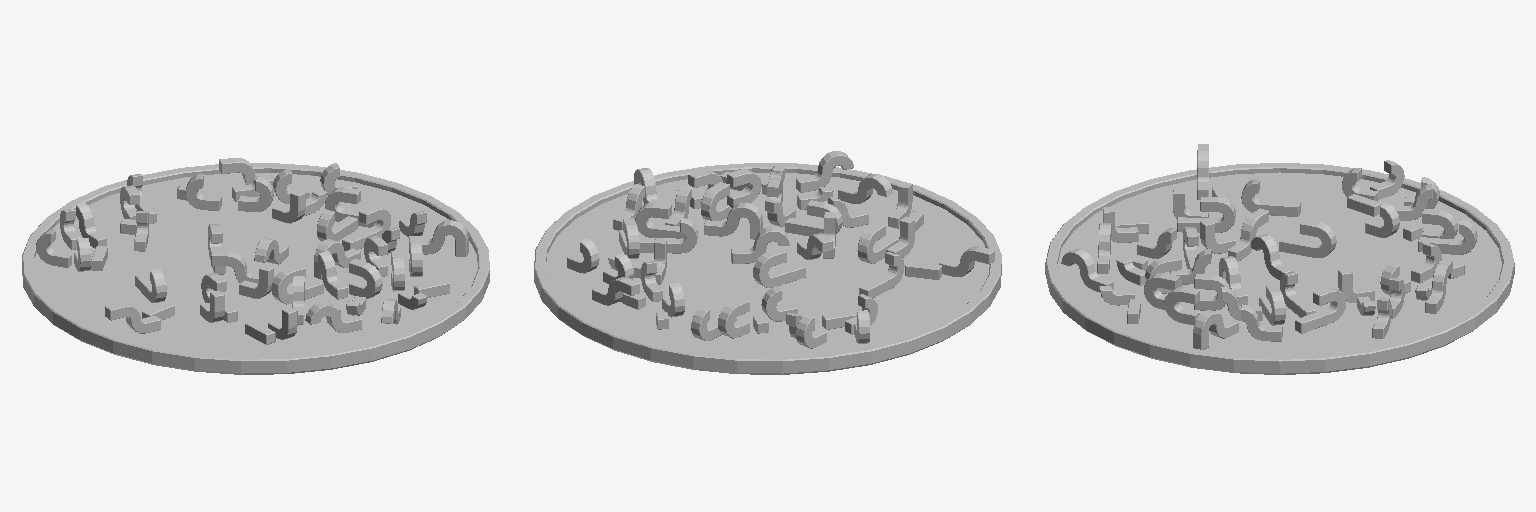
File: Worm Playground.obj
3 renders of one model, left to right at view 1: azimuth 30°, elevation 25°; view 2: azimuth 150°, elevation 25°; view 3: azimuth 270°, elevation 25°, orthographic.
Parts seen in each view (by area): view 1: Ground_Cylinder, Cube.059_Cube.016, Cube.052_Cube.011, Cube.035_Cube.016, Cube.016_Cube.006, Cube.010_Cube.004, Cube.017_Cube.005, Cube.054_Cube.016, Cube.031_Cube.014, Cube.030_Cube.011, Cube.055_Cube.014, Cube.024_Cube.005 (+20 smaller); view 2: Ground_Cylinder, Cube.040_Cube.016, Cube.030_Cube.011, Cube.059_Cube.016, Cube.053_Cube.006, Cube.047_Cube.016, Cube.020_Cube.006, Cube.035_Cube.016, Cube.016_Cube.006, Cube.041_Cube.004, Cube.055_Cube.014, Cube.023_Cube.004 (+22 smaller); view 3: Ground_Cylinder, Cube.040_Cube.016, Cube.054_Cube.016, Cube.052_Cube.011, Cube.047_Cube.016, Cube.055_Cube.014, Cube.050_Cube.004, Cube.056_Cube.014, Cube.053_Cube.006, Cube.024_Cube.005, Cube.029_Cube.004, Cube.018_Cube.005 (+22 smaller).
Part boxes in pixels (bbox=[...]): Ground_Cylinder: bbox=[22, 163, 489, 374]; Cube.059_Cube.016: bbox=[342, 206, 390, 250]; Cube.052_Cube.011: bbox=[409, 220, 468, 256]; Cube.035_Cube.016: bbox=[271, 264, 323, 304]; Cube.016_Cube.006: bbox=[305, 302, 361, 332]; Cube.010_Cube.004: bbox=[349, 259, 382, 298]; Cube.017_Cube.005: bbox=[105, 302, 160, 333]; Cube.054_Cube.016: bbox=[325, 187, 374, 227]; Cube.031_Cube.014: bbox=[317, 209, 357, 241]; Cube.030_Cube.011: bbox=[314, 239, 360, 279]; Cube.055_Cube.014: bbox=[135, 269, 166, 302]; Cube.024_Cube.005: bbox=[211, 251, 258, 283]; Ground_Cylinder: bbox=[534, 163, 1001, 374]; Cube.040_Cube.016: bbox=[753, 248, 805, 287]; Cube.030_Cube.011: bbox=[704, 202, 762, 239]; Cube.059_Cube.016: bbox=[635, 202, 684, 238]; Cube.053_Cube.006: bbox=[796, 151, 853, 192]; Cube.047_Cube.016: bbox=[857, 223, 898, 263]; Cube.020_Cube.006: bbox=[731, 226, 789, 263]; Cube.035_Cube.016: bbox=[785, 200, 842, 236]; Cube.016_Cube.006: bbox=[838, 174, 892, 203]; Cube.041_Cube.004: bbox=[718, 298, 749, 338]; Cube.055_Cube.014: bbox=[859, 252, 904, 298]; Cube.023_Cube.004: bbox=[727, 169, 761, 207]; Ground_Cylinder: bbox=[1045, 163, 1514, 374]; Cube.040_Cube.016: bbox=[1279, 220, 1336, 257]; Cube.054_Cube.016: bbox=[1295, 287, 1345, 333]; Cube.052_Cube.011: bbox=[1193, 310, 1238, 349]; Cube.047_Cube.016: bbox=[1177, 197, 1235, 232]; Cube.055_Cube.014: bbox=[1241, 178, 1300, 216]; Cube.050_Cube.004: bbox=[1164, 287, 1199, 325]; Cube.056_Cube.014: bbox=[1418, 219, 1477, 254]; Cube.053_Cube.006: bbox=[1061, 248, 1113, 292]; Cube.024_Cube.005: bbox=[1228, 208, 1268, 261]; Cube.029_Cube.004: bbox=[1194, 274, 1229, 310]; Cube.018_Cube.005: bbox=[1425, 258, 1452, 313].
Size of the model in its own units: 40 by 4 by 40.